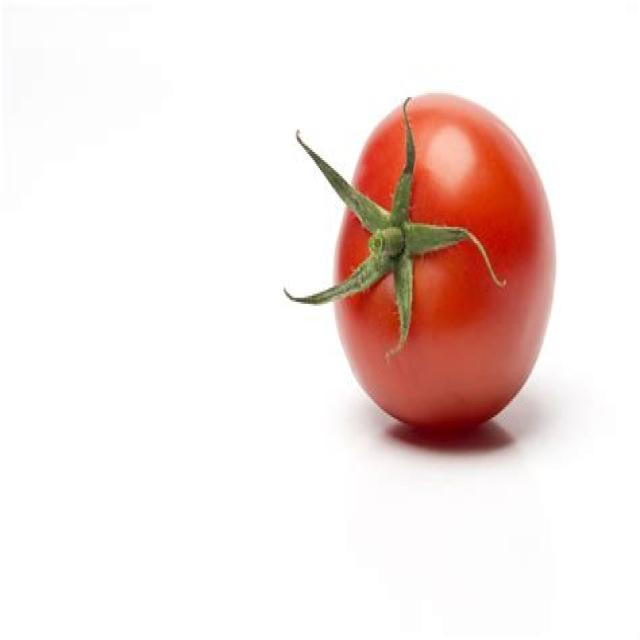Tomato: (293, 94, 558, 435)
